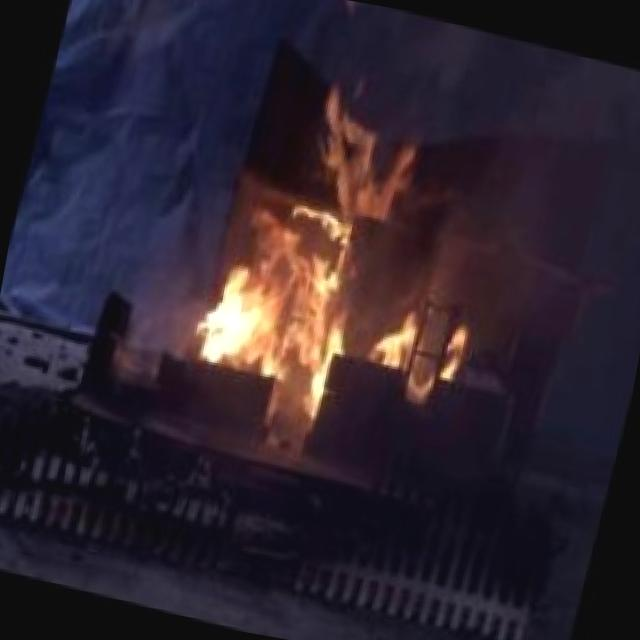fire: (168, 64, 483, 446)
